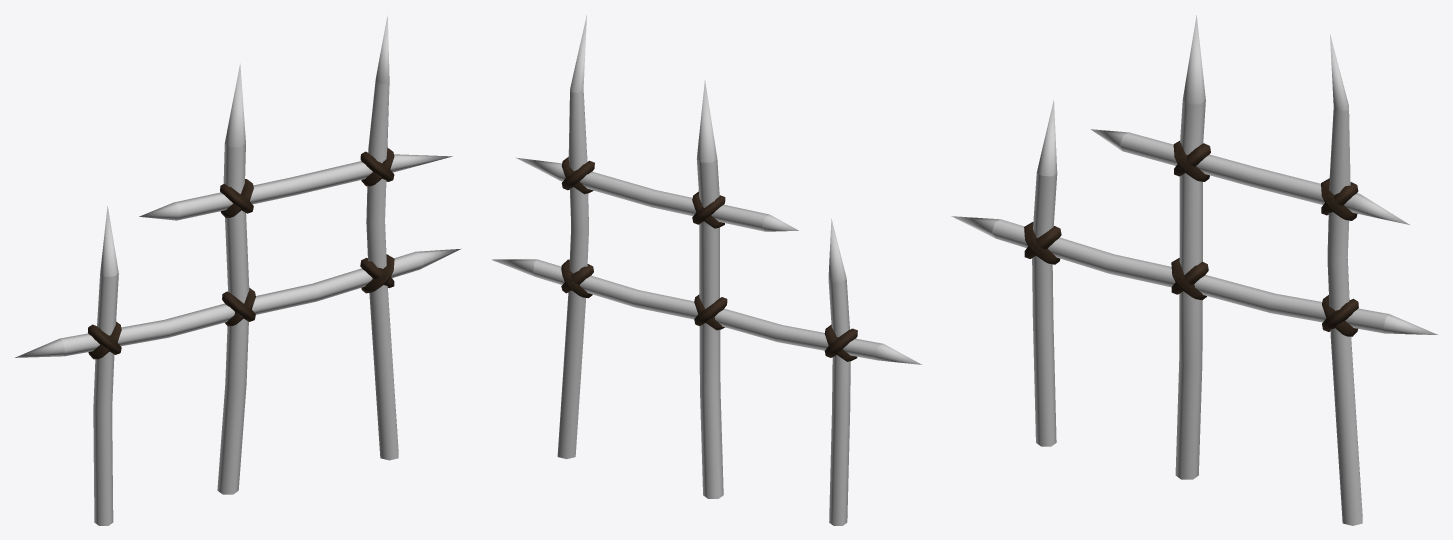
The model's file is lower_city_wood_lattice_01.fbx.
The picture shows the model from 3 angles, left to right: view 1: azimuth 30°, elevation 25°; view 2: azimuth 150°, elevation 25°; view 3: azimuth 330°, elevation 25°; orthographic projection. The views are drawn at different scales.
Visible parts, largest first — view 1: lower_city_wood_lattice_01; view 2: lower_city_wood_lattice_01; view 3: lower_city_wood_lattice_01.
Boxes of the visible parts, x1=… form: lower_city_wood_lattice_01: x1=15, y1=15, x2=461, y2=525; lower_city_wood_lattice_01: x1=491, y1=15, x2=921, y2=525; lower_city_wood_lattice_01: x1=951, y1=15, x2=1437, y2=525.
Bounding box in the file's own units: 1.8 × 1.73 × 0.1504.
